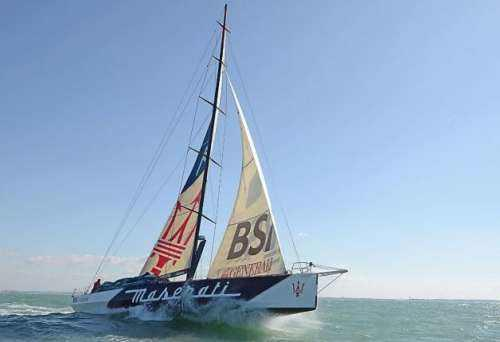fanchuan: (72, 1, 352, 318)
